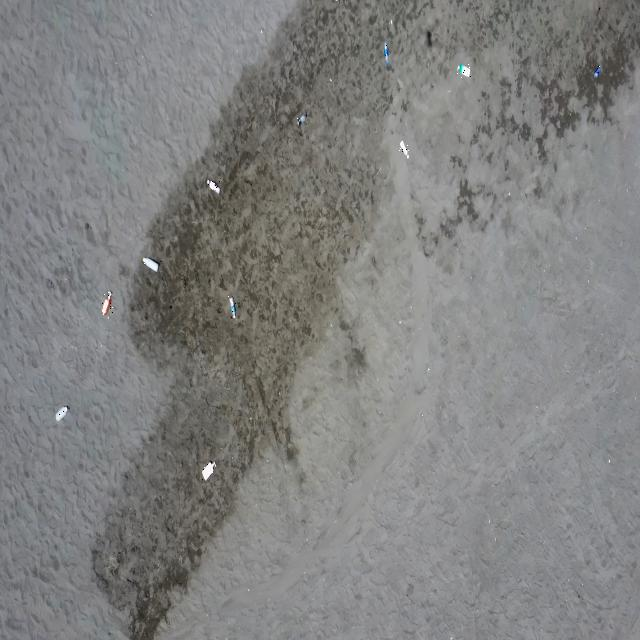plastic-bottle: (142, 255, 162, 274), (202, 459, 216, 481), (101, 292, 113, 316), (56, 404, 70, 424), (206, 178, 220, 195), (399, 139, 410, 160), (295, 111, 307, 130), (456, 64, 471, 78), (228, 296, 236, 319), (383, 41, 390, 66), (593, 66, 602, 79)
